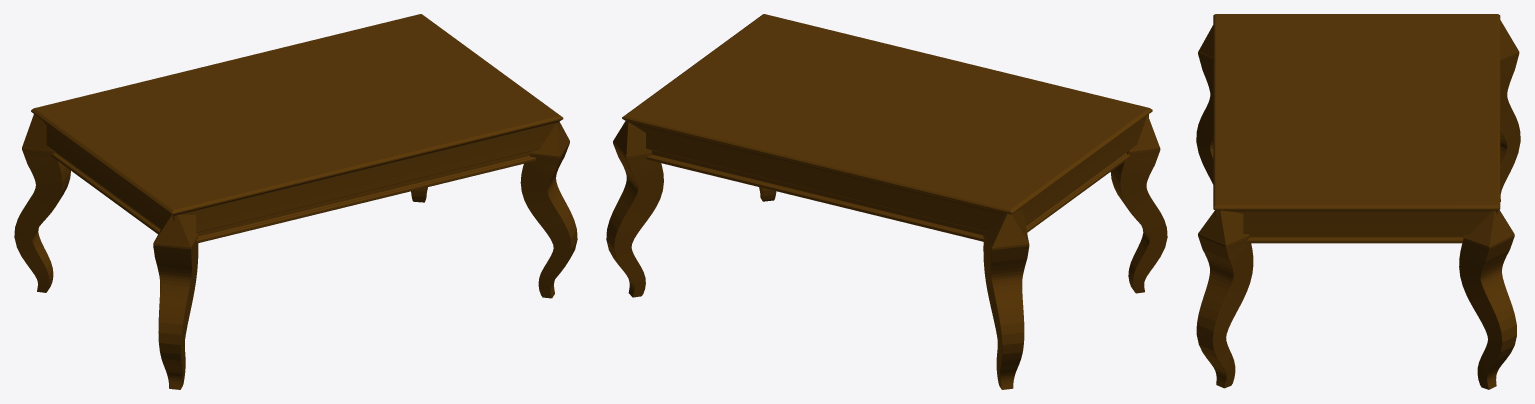
Rendered from Coffee Table.fbx.
3 views of the same model, side by side, from view 1: azimuth 30°, elevation 25°; view 2: azimuth 150°, elevation 25°; view 3: azimuth 270°, elevation 25° (orthographic).
Parts seen in each view (by area): view 1: pCube12, pCube11, pCube8, pCube10; view 2: pCube12, pCube10, pCube9, pCube11; view 3: pCube12, pCube8, pCube9, pCube10, pCube11.
Part boxes in pixels (x1,y1,x2,y2): pCube12: (31,14,563,243); pCube11: (153,214,198,389); pCube8: (520,122,577,298); pCube10: (14,114,70,292); pCube12: (622,14,1152,241); pCube10: (983,209,1029,389); pCube9: (606,121,663,297); pCube11: (1110,115,1167,293); pCube12: (1213,14,1500,243); pCube8: (1196,210,1253,388); pCube9: (1459,210,1516,389); pCube10: (1500,20,1520,201); pCube11: (1196,25,1213,184).
Bounding box in the file's own units: 3.3 × 1.37 × 2.18.
